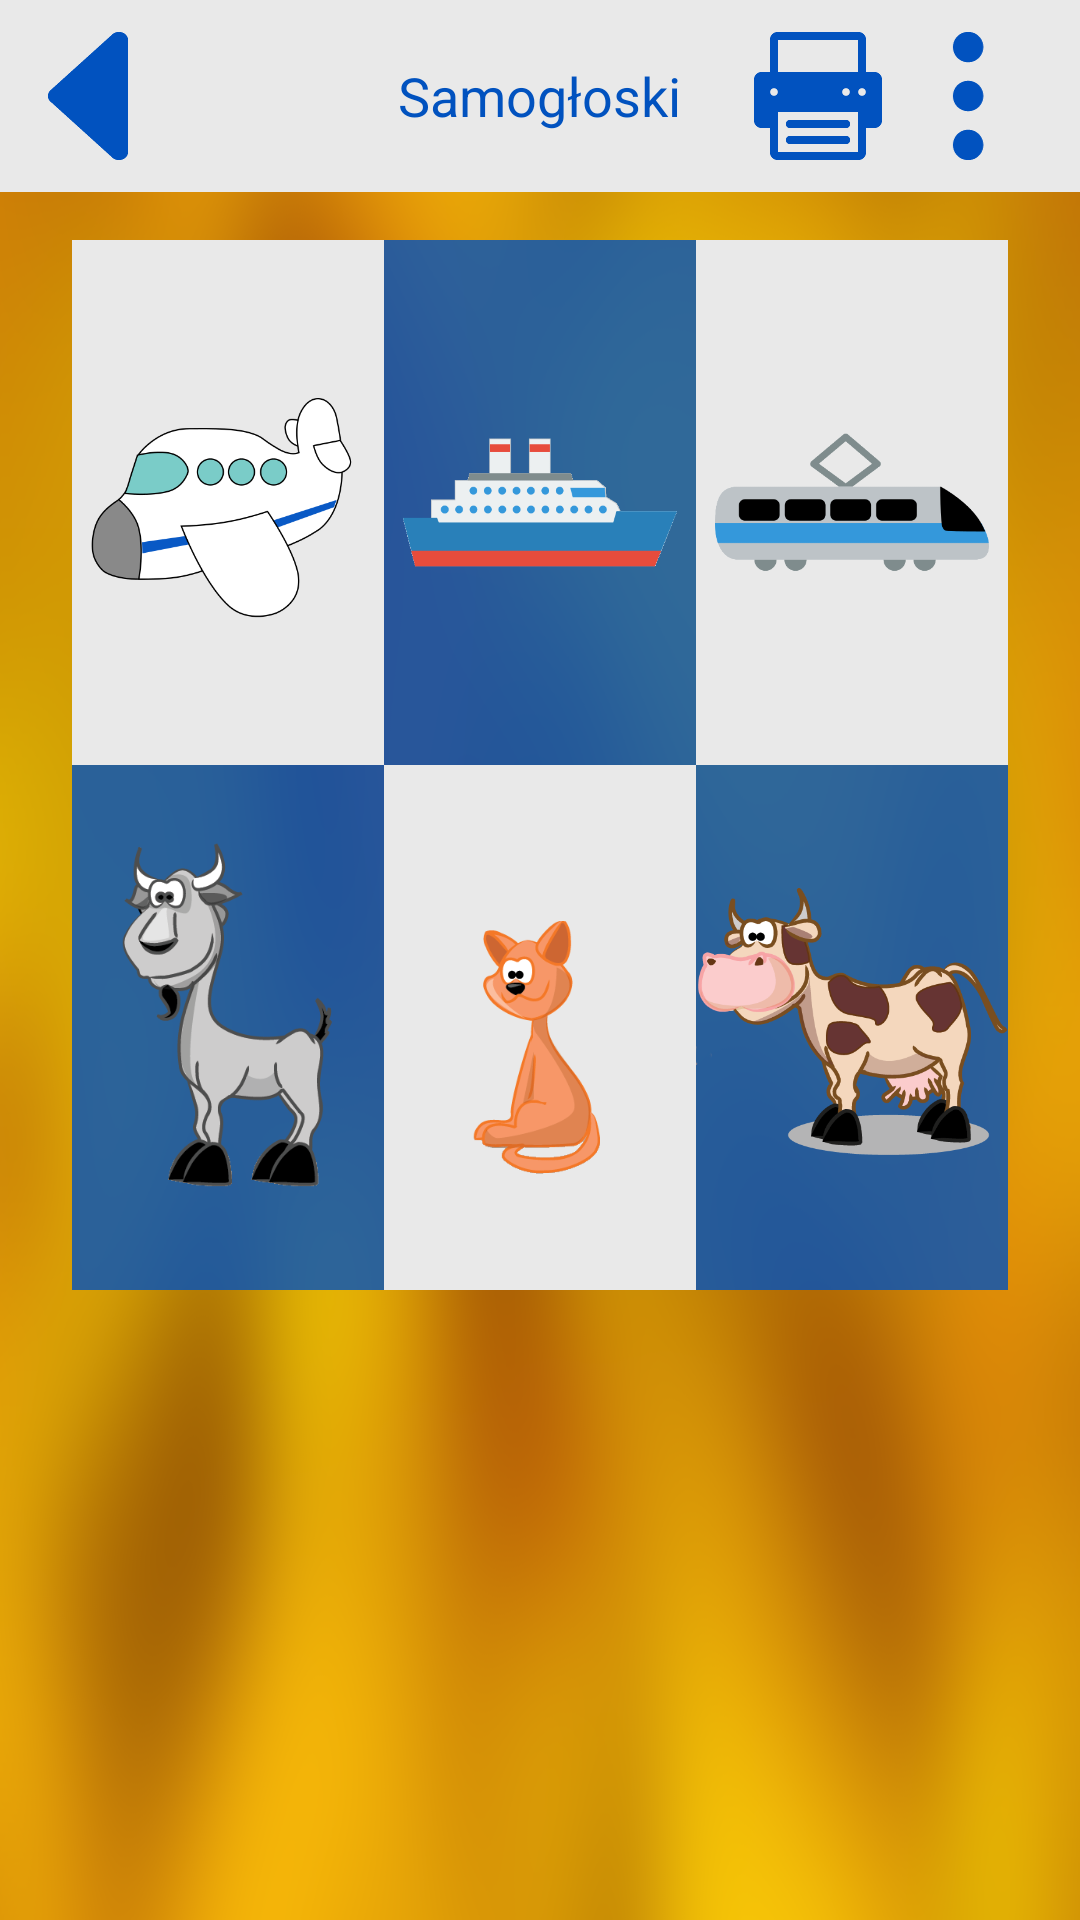

Screen size 1080×1920. Icon name, then its box in pixels as bbox=(x1, y1, x2, y2):
back: bbox=(48, 32, 128, 160)
Przycisk wydruku: bbox=(754, 32, 882, 160)
